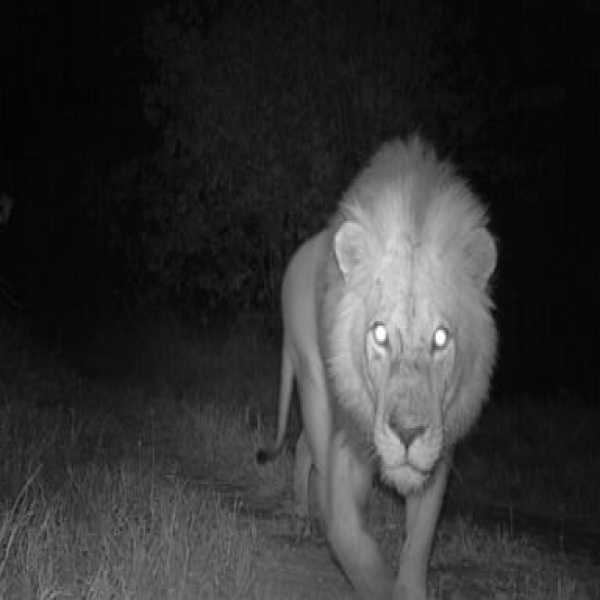Lion: (256, 134, 500, 599)
